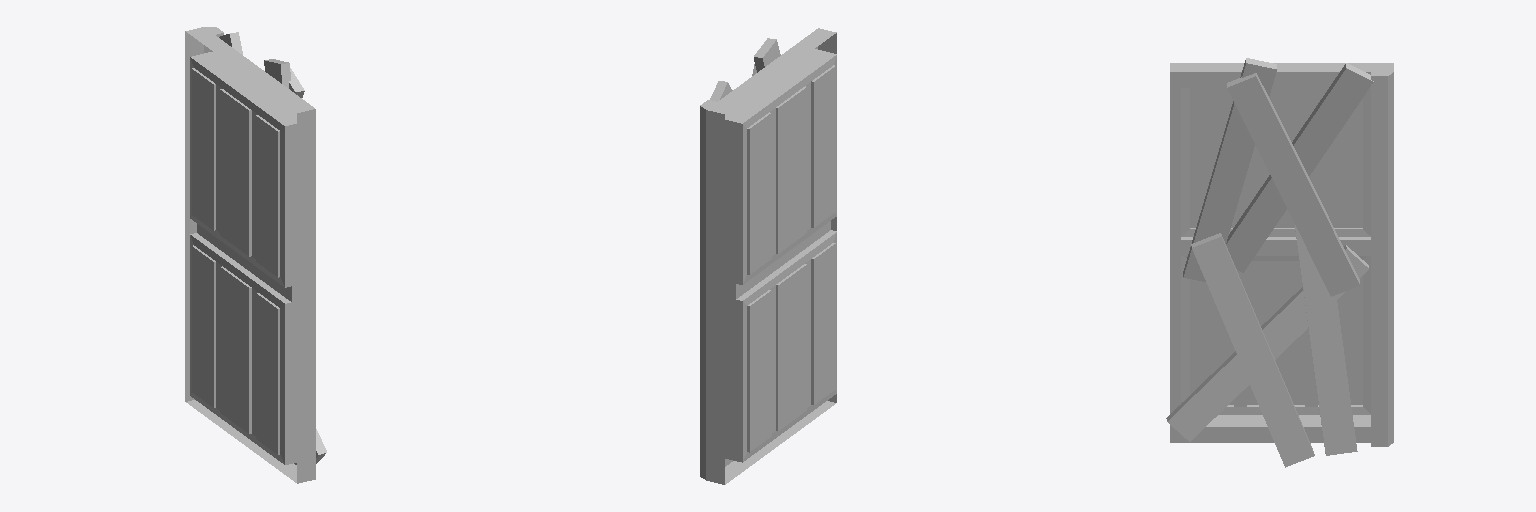
The model's file is WideWindow.obj.
3 renders of one model, left to right at view 1: azimuth 30°, elevation 25°; view 2: azimuth 150°, elevation 25°; view 3: azimuth 270°, elevation 25°, orthographic.
Parts seen in each view (by area): view 1: WideWindow; view 2: WideWindow; view 3: WideWindow.
Part boxes in pixels (bbox=[...]): WideWindow: bbox=[185, 27, 326, 483]; WideWindow: bbox=[700, 28, 836, 484]; WideWindow: bbox=[1166, 58, 1393, 467].
Bounding box in the file's own units: 2.49 × 20.92 × 10.66.